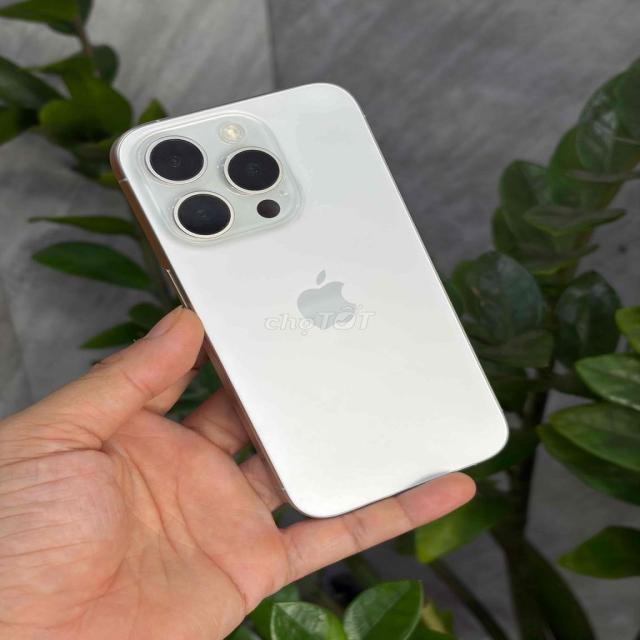gen_15: (105, 75, 529, 521)
